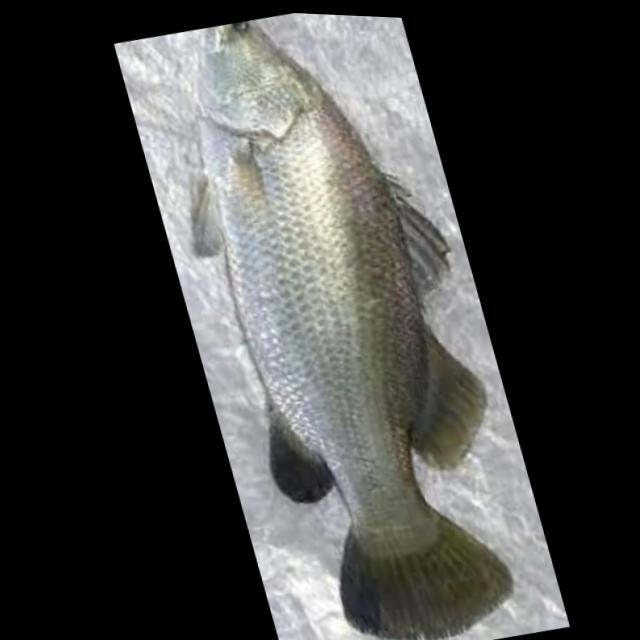Seabass: (132, 6, 559, 640)
